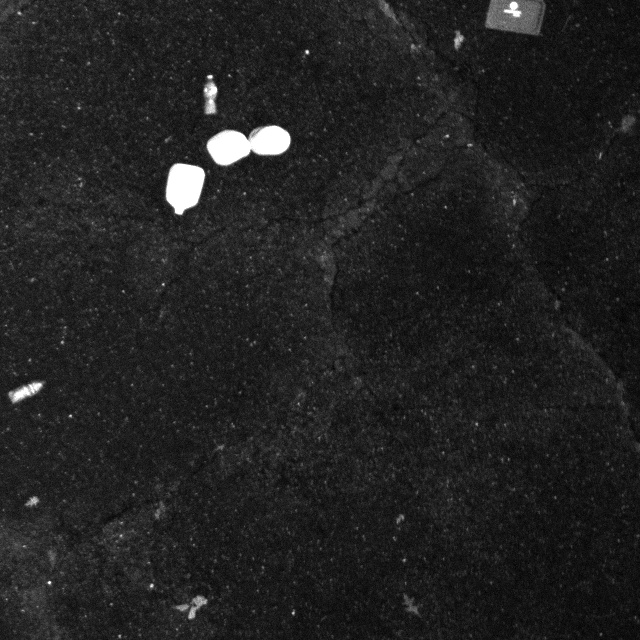bottle: (196, 71, 226, 119)
can: (202, 124, 250, 169), (164, 165, 205, 216), (243, 123, 293, 161)
